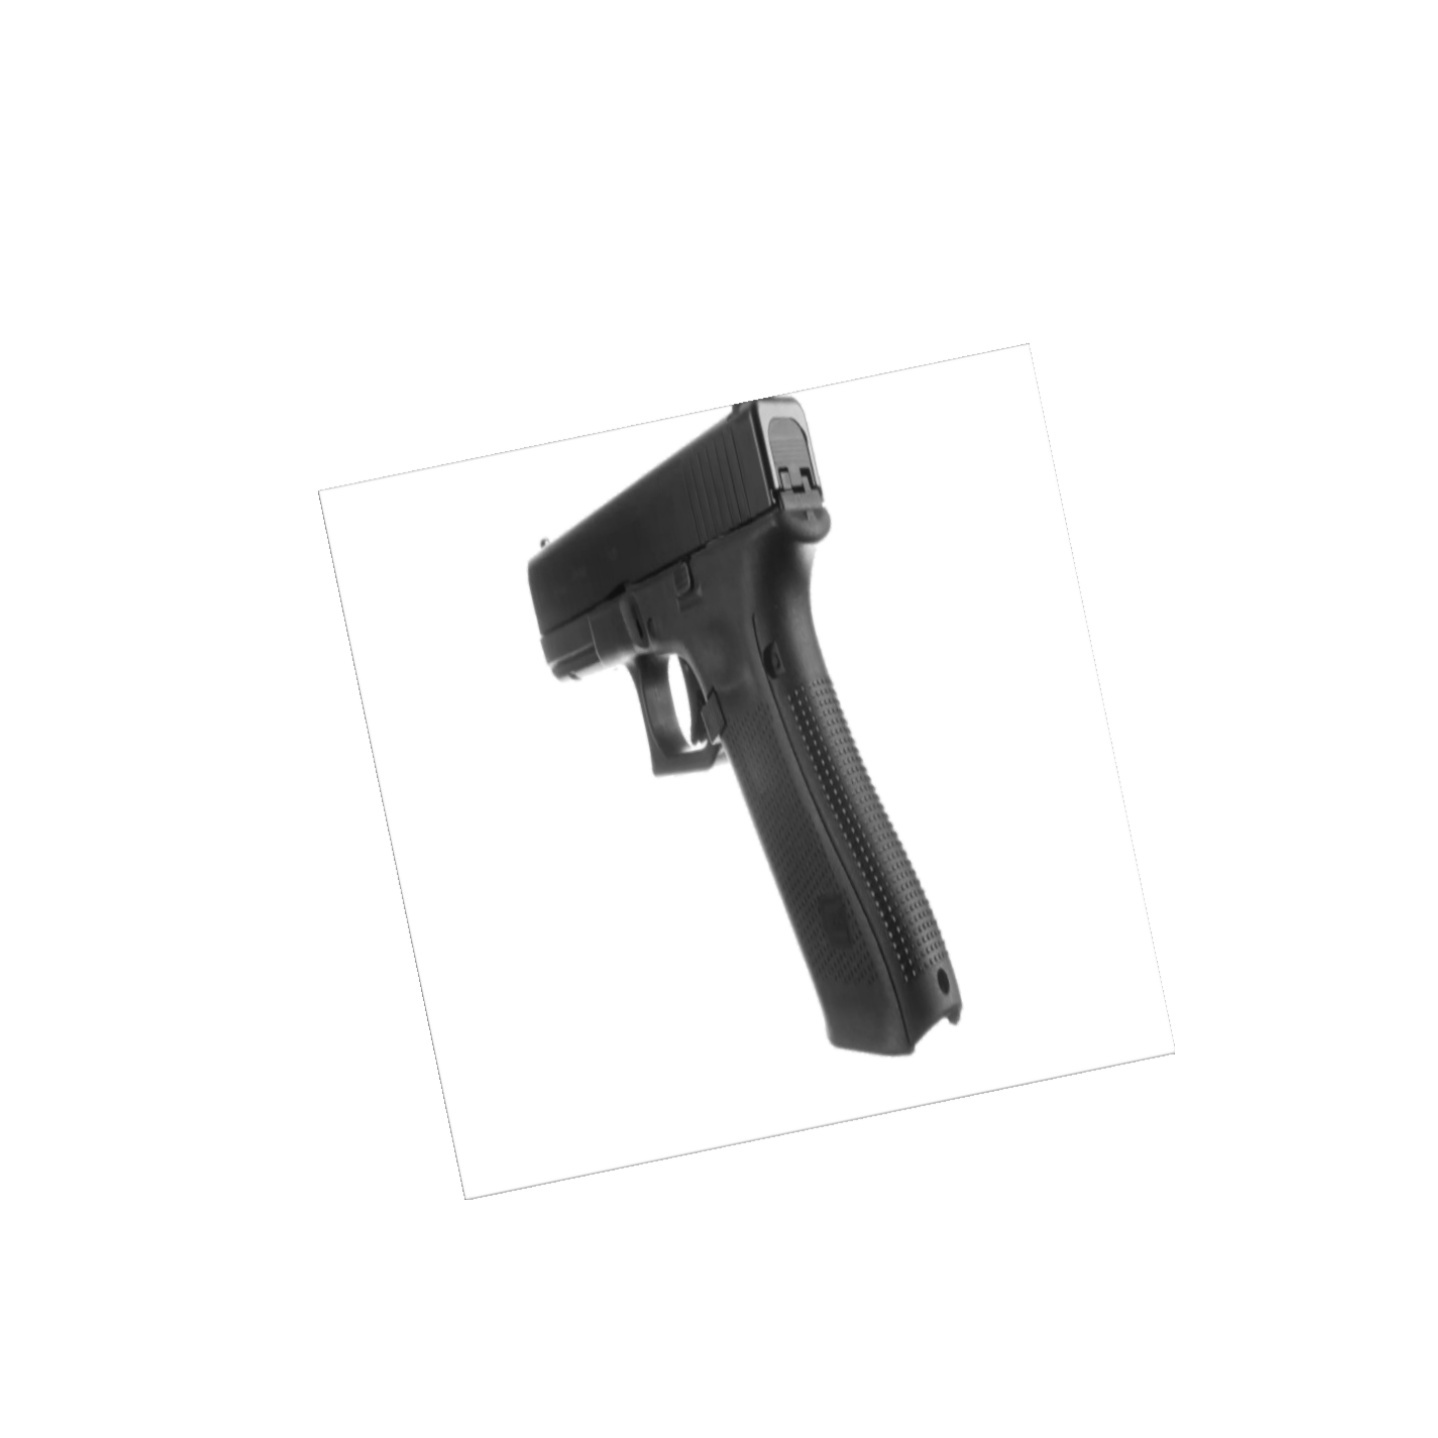gun: (508, 390, 976, 1071)
